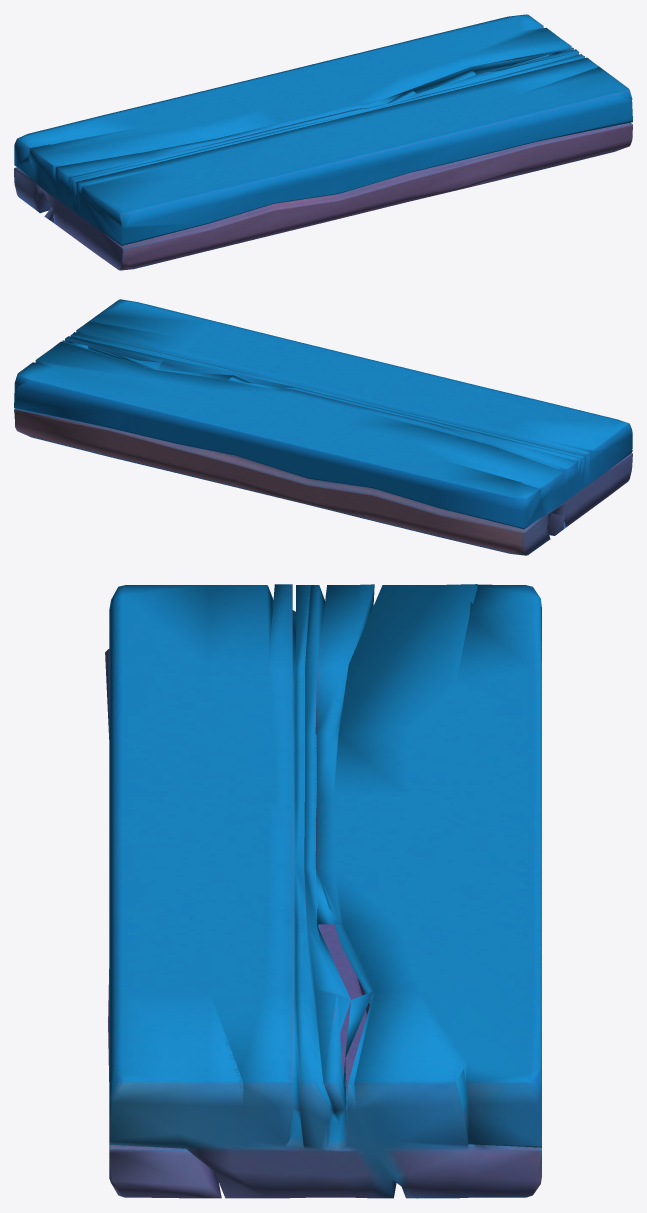
File: azure-road.glb
The picture shows the model from 3 angles, top to bottom: view 1: azimuth 30°, elevation 25°; view 2: azimuth 150°, elevation 25°; view 3: azimuth 270°, elevation 25°; orthographic projection. The views are drawn at different scales.
Size of the model in its own units: 0.9595 by 0.104 by 0.3545.
Materials: 1 (1 with a texture image).
